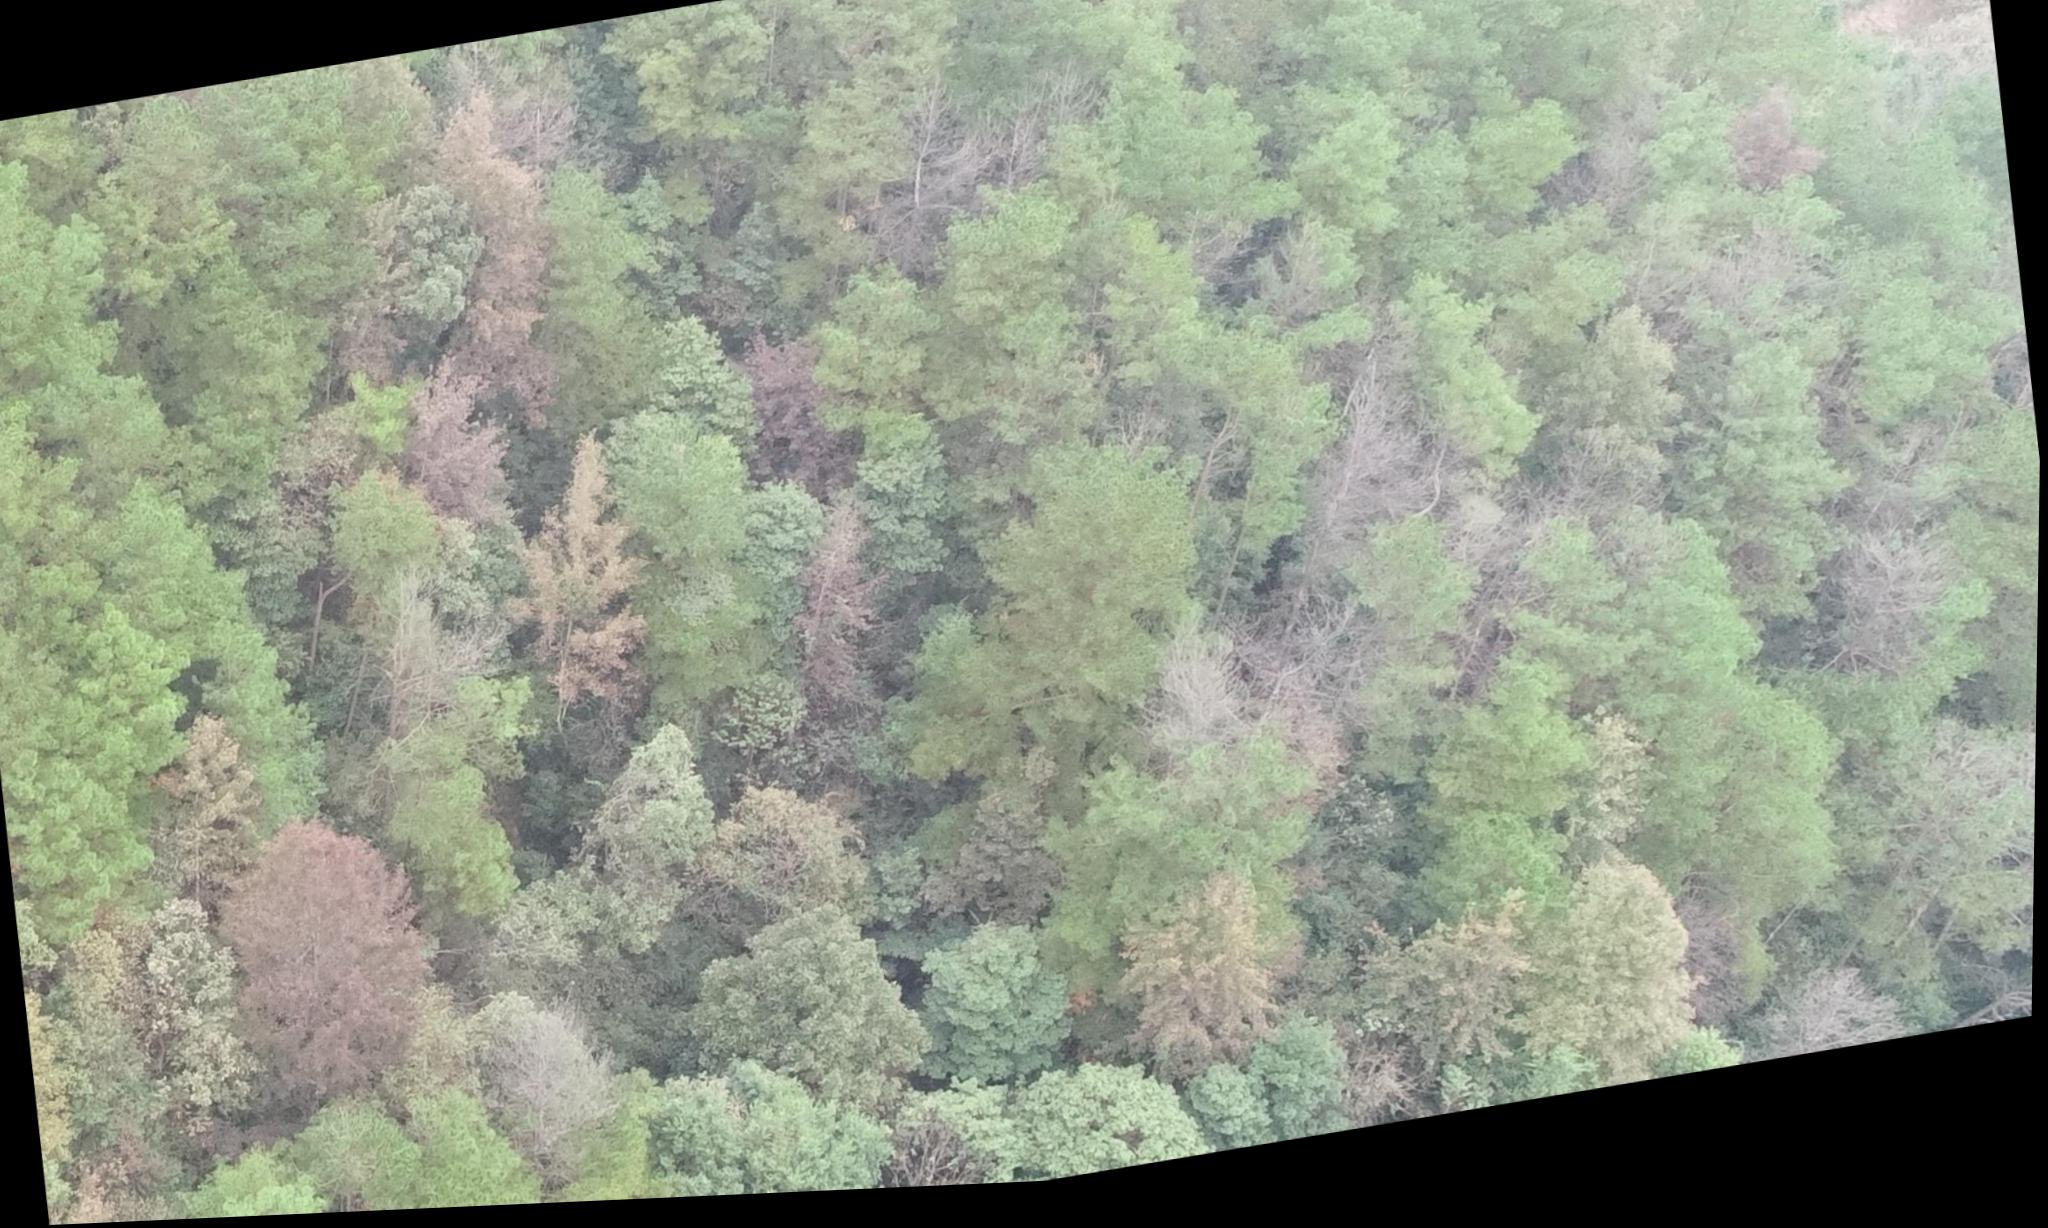heavy: (365, 330, 690, 756), (194, 788, 494, 1158)
